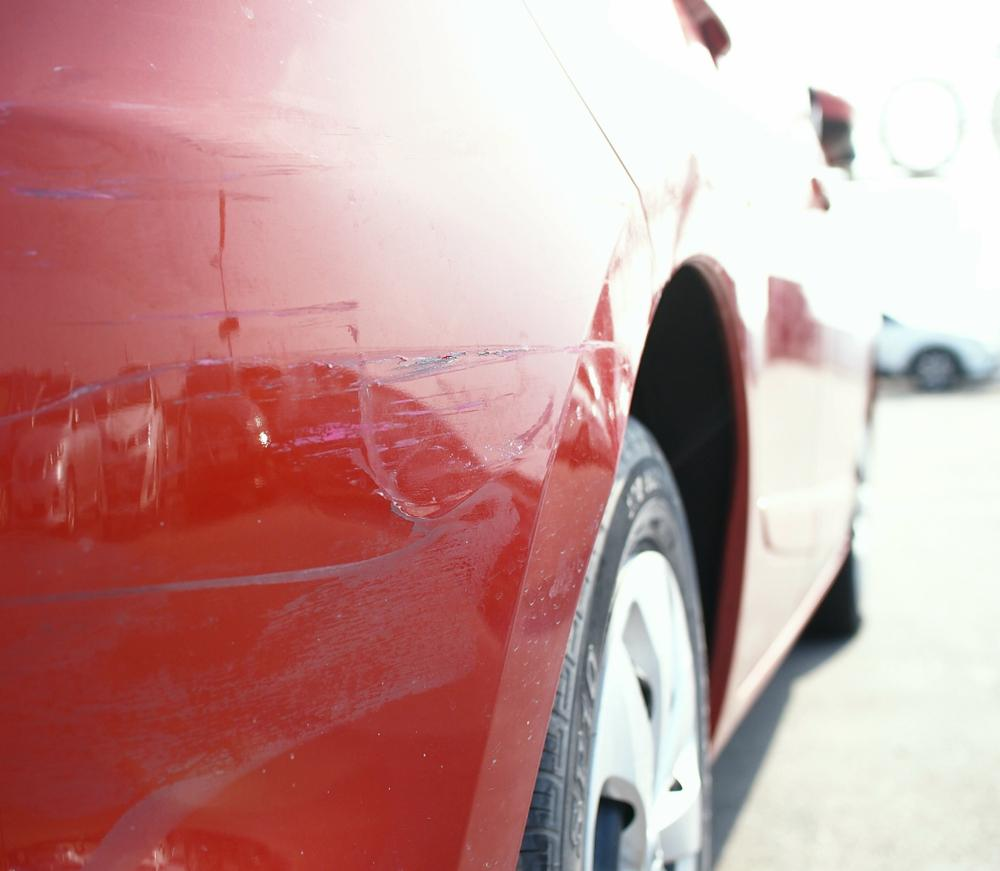scratch: (0, 90, 627, 871)
